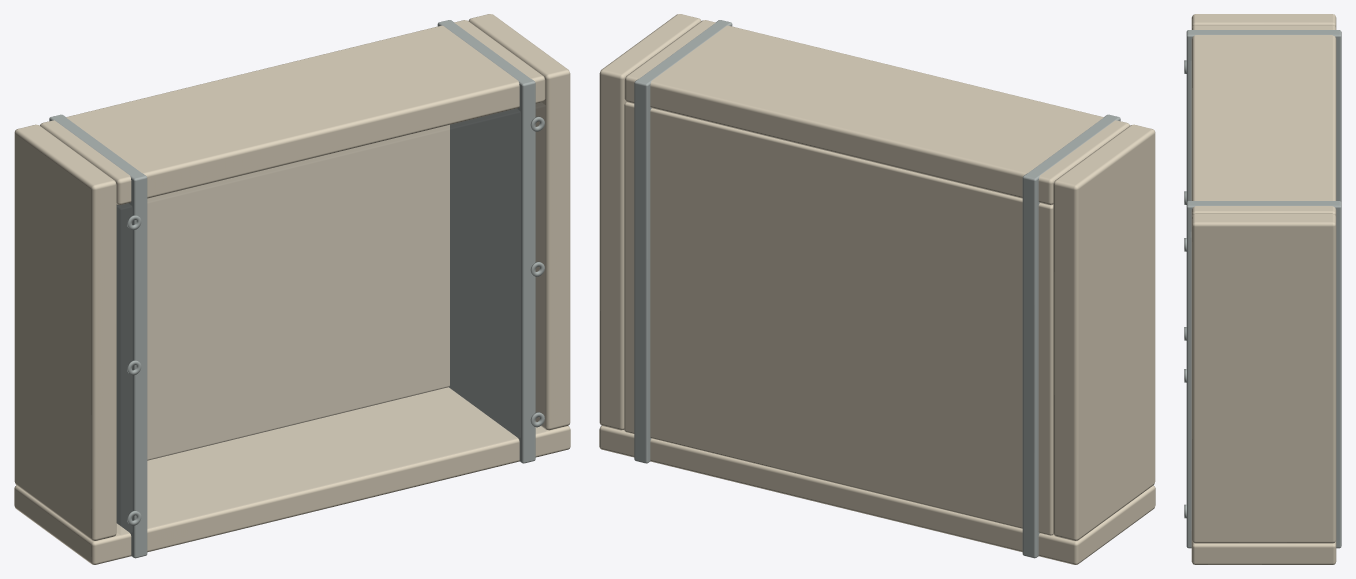
The model's file is museum-conservation-and-art-restoration-museum-conserv-10b92479__31915.glb.
The picture shows the model from 3 angles, left to right: view 1: azimuth 30°, elevation 25°; view 2: azimuth 150°, elevation 25°; view 3: azimuth 270°, elevation 25°; orthographic projection. The views are drawn at different scales.
Visible parts, largest first — view 1: museum-conservation-and-art-restoration-artwork-travel-crate (×2); view 2: museum-conservation-and-art-restoration-artwork-travel-crate (×2); view 3: museum-conservation-and-art-restoration-artwork-travel-crate (×2).
Part boxes in pixels (box(x1,y1,x2,y2)): museum-conservation-and-art-restoration-artwork-travel-crate (×2): box(14, 14, 570, 564); museum-conservation-and-art-restoration-artwork-travel-crate (×2): box(599, 14, 1155, 564); museum-conservation-and-art-restoration-artwork-travel-crate (×2): box(1184, 14, 1341, 564).
Size of the model in its own units: 1.9 by 1.44 by 0.598.
